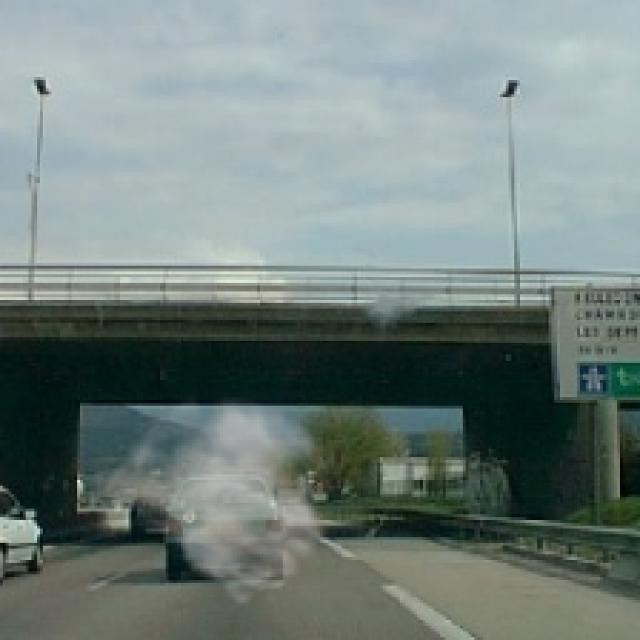Smoke: (82, 392, 352, 608)
